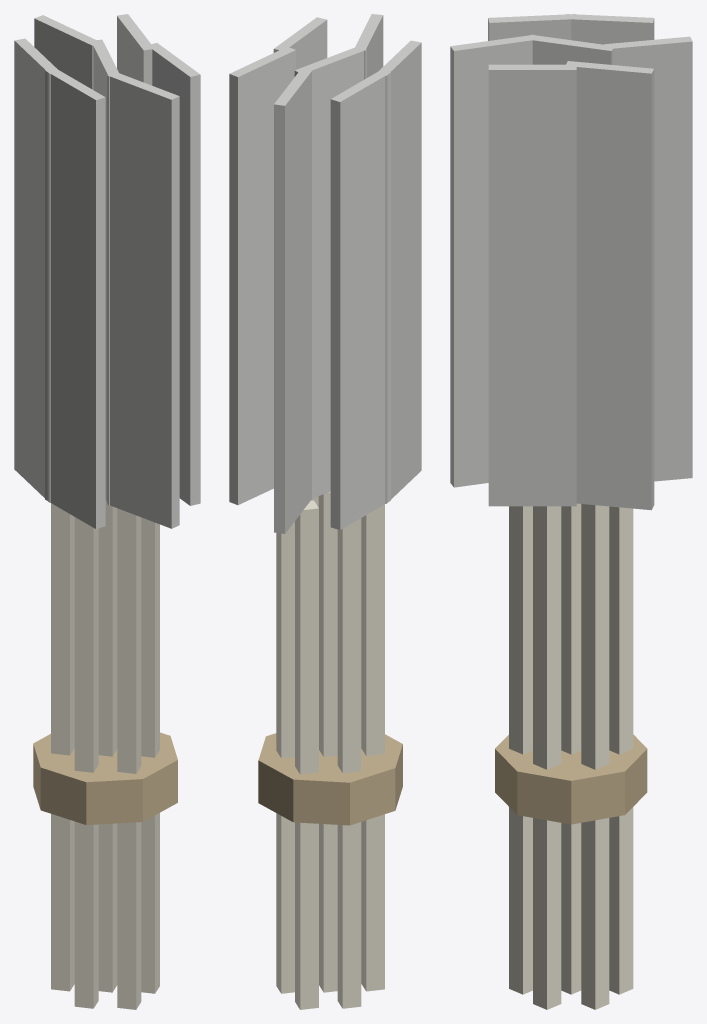
Rendered from prop-quill-barrel-bundle.fbx.
3 renders of one model, left to right at view 1: azimuth 30°, elevation 25°; view 2: azimuth 150°, elevation 25°; view 3: azimuth 270°, elevation 25°, orthographic.
Parts seen in each view (by area): view 1: prop-quill-barrel-bundle; view 2: prop-quill-barrel-bundle; view 3: prop-quill-barrel-bundle.
Boxes of the visible parts, left/top/right/bottom form: prop-quill-barrel-bundle: left=14, top=14, right=200, bottom=1009; prop-quill-barrel-bundle: left=229, top=14, right=421, bottom=1009; prop-quill-barrel-bundle: left=450, top=14, right=692, bottom=1009.
Size of the model in its own units: 3.8 by 26 by 6.04.
